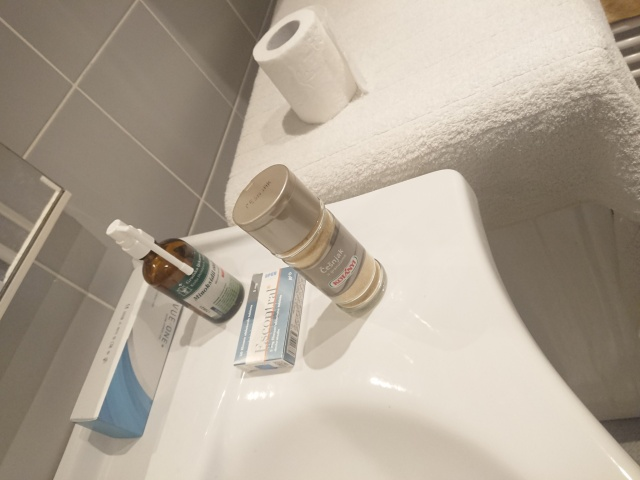Kotanyi Garlic Granules 70g: (230, 162, 390, 315)
